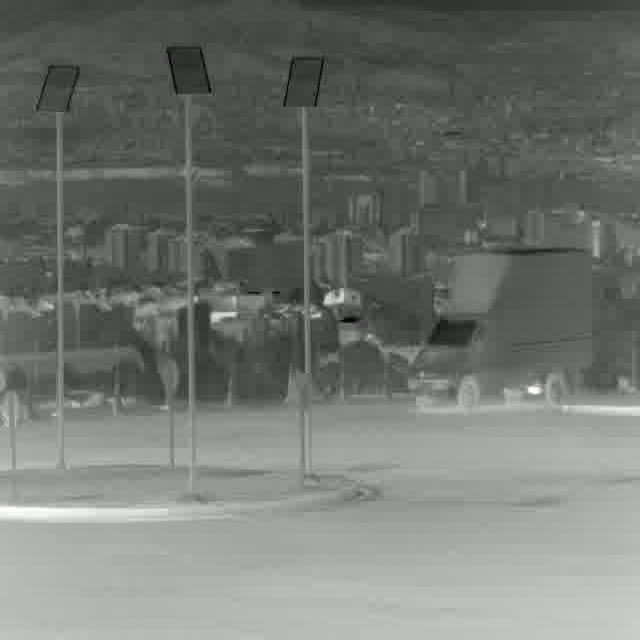Car: (408, 248, 592, 409)
